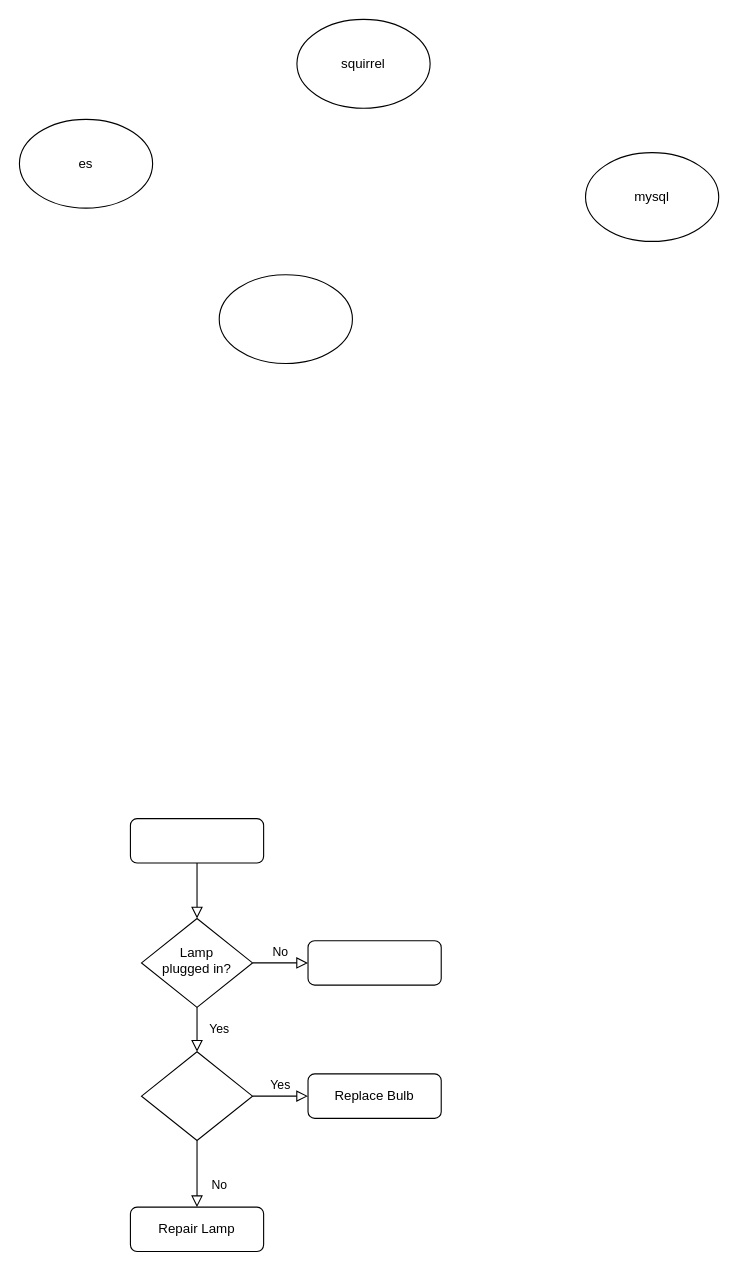
The diagram is 738 pixels wide and 1271 high, and some of its shapes have lost their labels. Each missing label, with the centre of its shape:
"Bulb burned out?" belongs at (x=196, y=1096).
"Lamp doesn't work" belongs at (x=196, y=840).
"Plug in lamp" belongs at (x=374, y=962).
